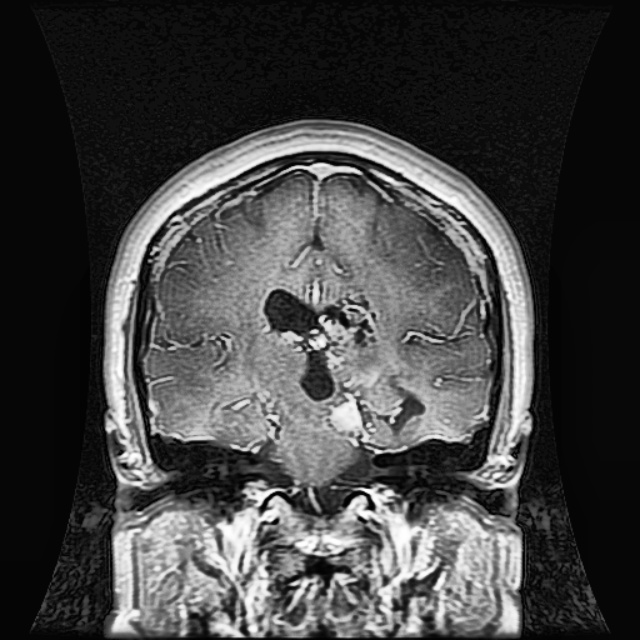Meningioma: (262, 290, 375, 394)
